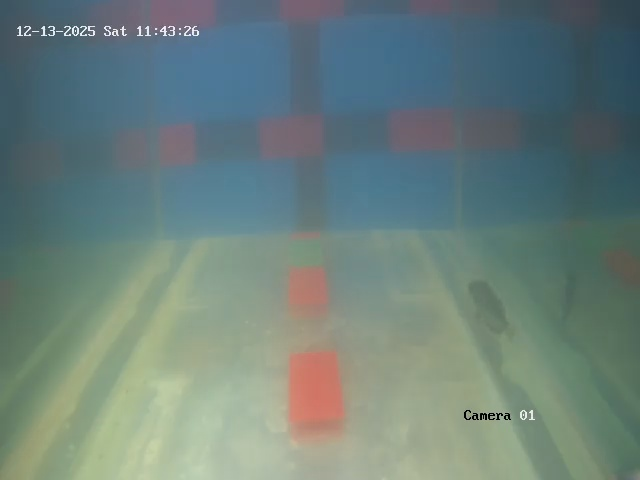fish: (467, 279, 518, 338)
